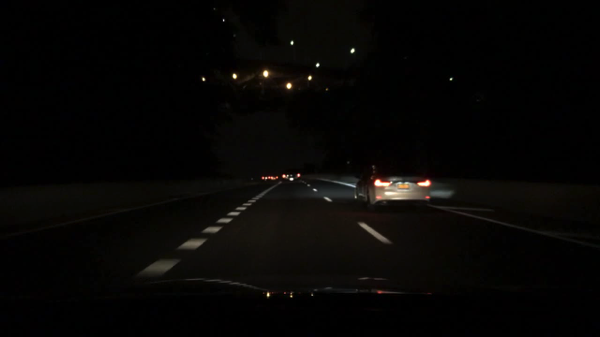car: (354, 162, 430, 207), (280, 171, 301, 182), (268, 173, 278, 183), (259, 173, 268, 183)
